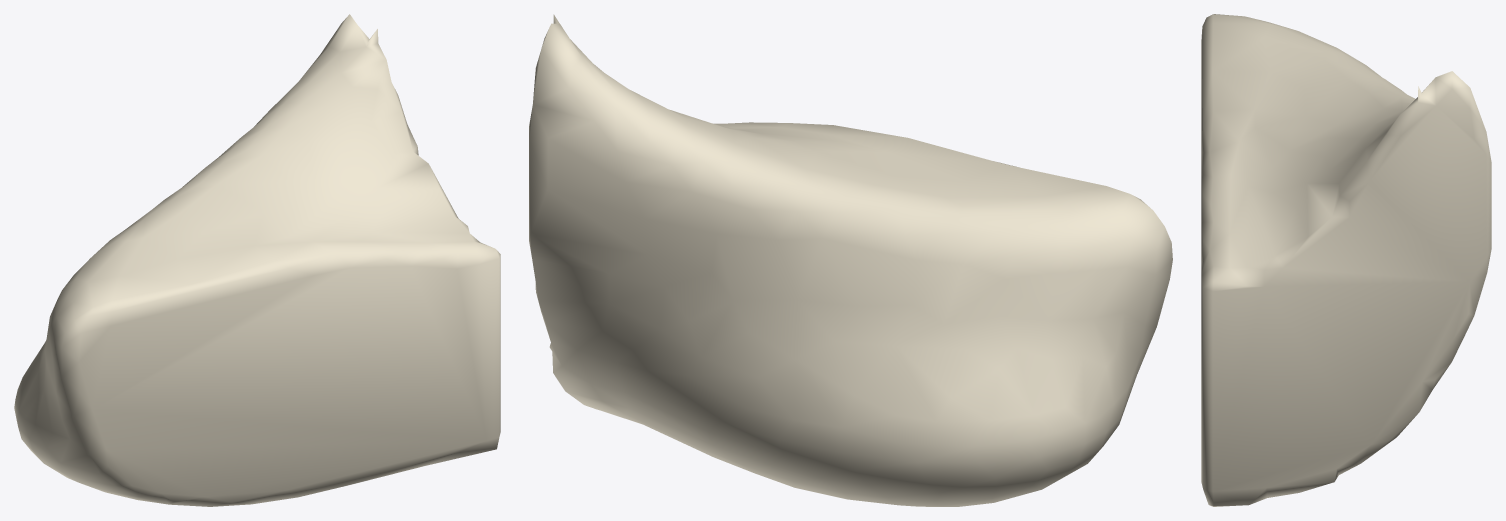
Rendered from premaxilla_r.glb.
3 renders of one model, left to right at view 1: azimuth 30°, elevation 25°; view 2: azimuth 150°, elevation 25°; view 3: azimuth 270°, elevation 25°, orthographic. The views are drawn at different scales.
Visible parts, largest first — view 1: geometry_0; view 2: geometry_0; view 3: geometry_0.
Part boxes in pixels (<box>): geometry_0: <box>14,14,500,506</box>; geometry_0: <box>529,14,1172,506</box>; geometry_0: <box>1201,14,1491,506</box>.
Bounding box in the file's own units: 0.1341 × 0.108 × 0.068.
